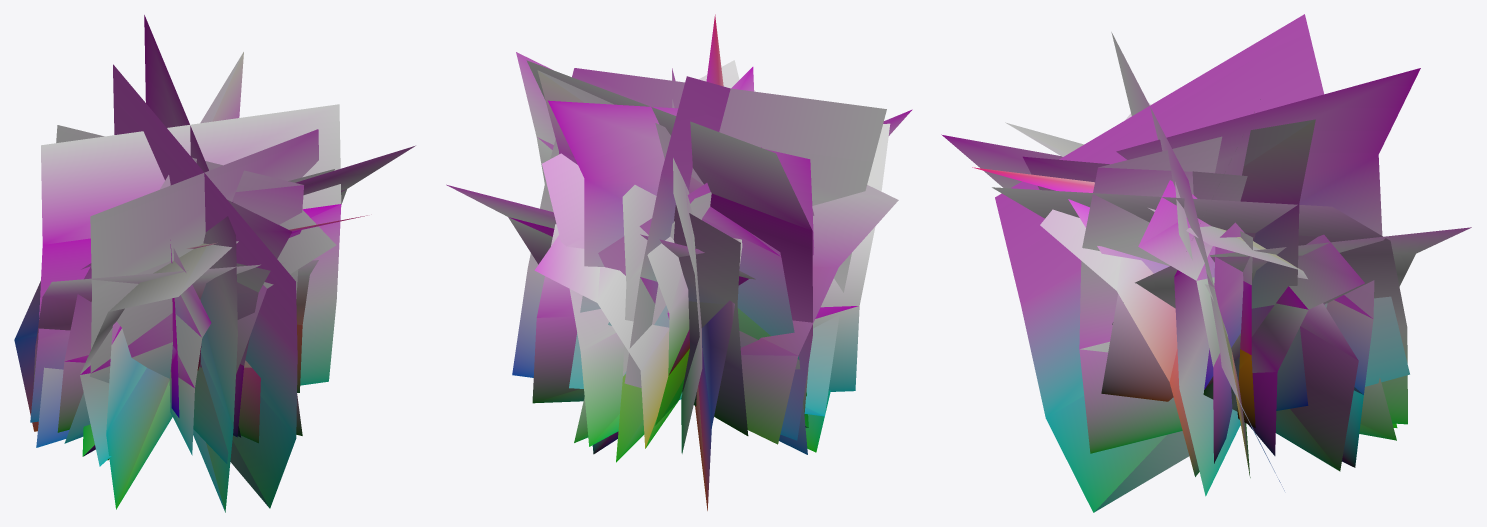
Rendered from elderbush_01_b.dae.
3 renders of one model, left to right at view 1: azimuth 30°, elevation 25°; view 2: azimuth 150°, elevation 25°; view 3: azimuth 270°, elevation 25°, orthographic. The views are drawn at different scales.
Parts seen in each view (by area): view 1: elderbush128; view 2: elderbush128; view 3: elderbush128.
Part boxes in pixels (x1,y1,x2,y2): elderbush128: [14, 15, 415, 512]; elderbush128: [446, 14, 912, 510]; elderbush128: [941, 14, 1471, 512].
Size of what is drawn, in the model's own units: 6.25 by 6.8 by 6.51.
